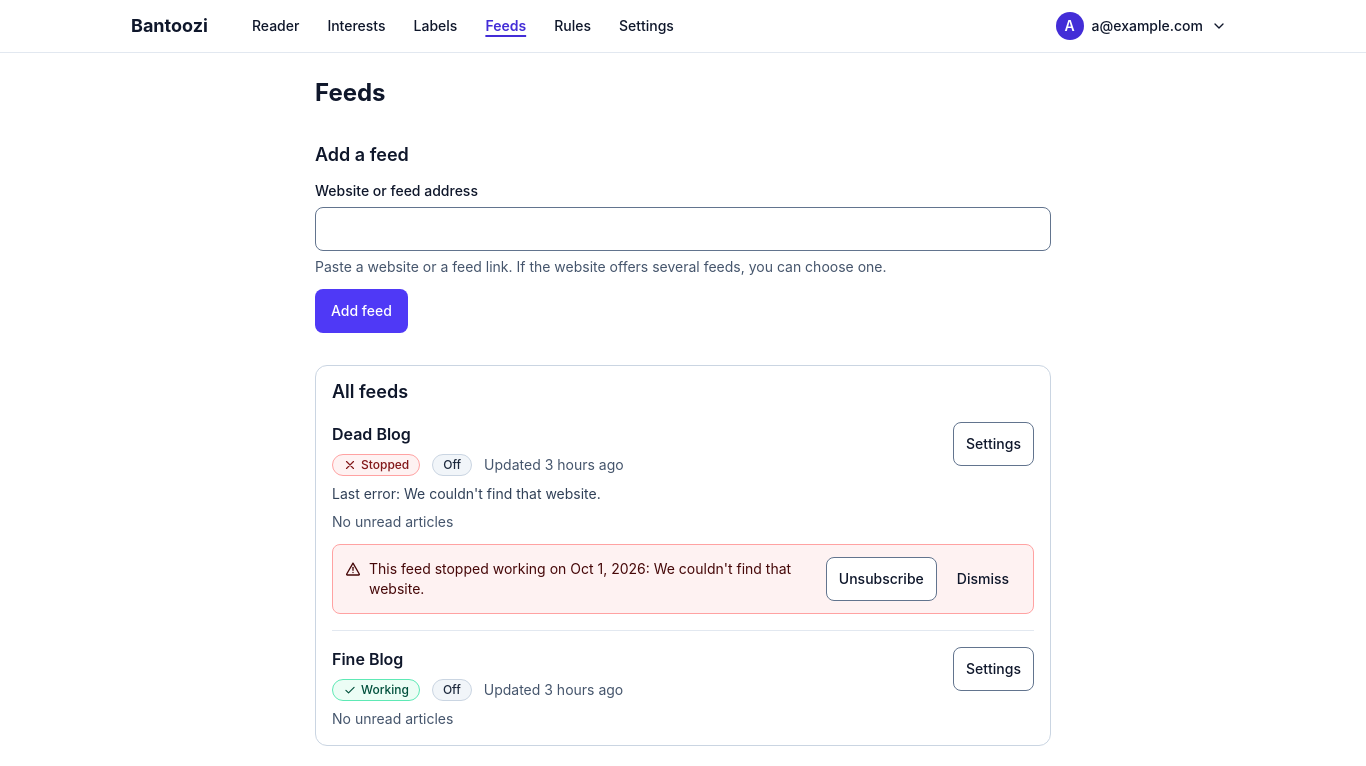
the focus after unsubscribing on the feeds page › stays in the page when the question was asked by the notice of the feed
Expected: the heading "Dead Blog" is shown, [332,424,411,444]
Click the button "Unsubscribe".
click(881, 579)  # box [826,557,937,601]
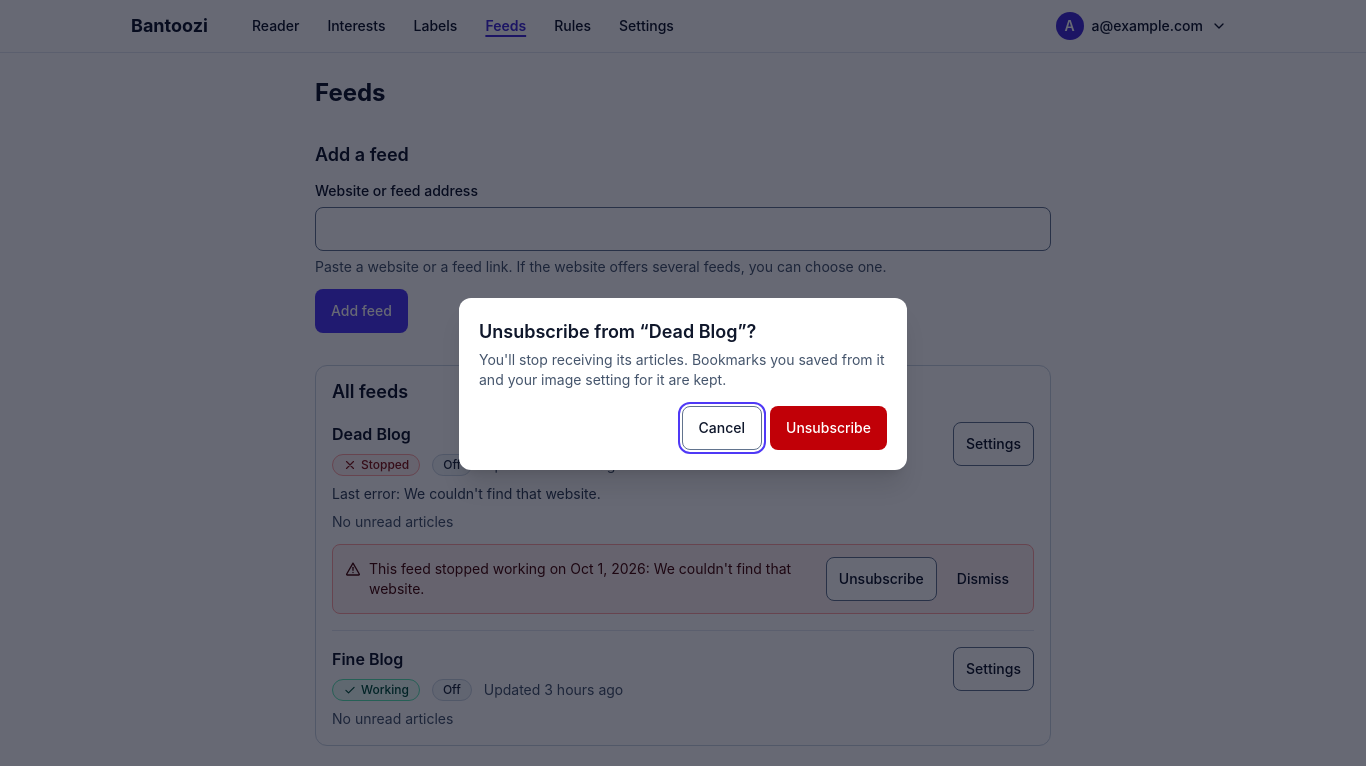
Click the button "Unsubscribe".
click(828, 428)  # box [770,406,887,450]
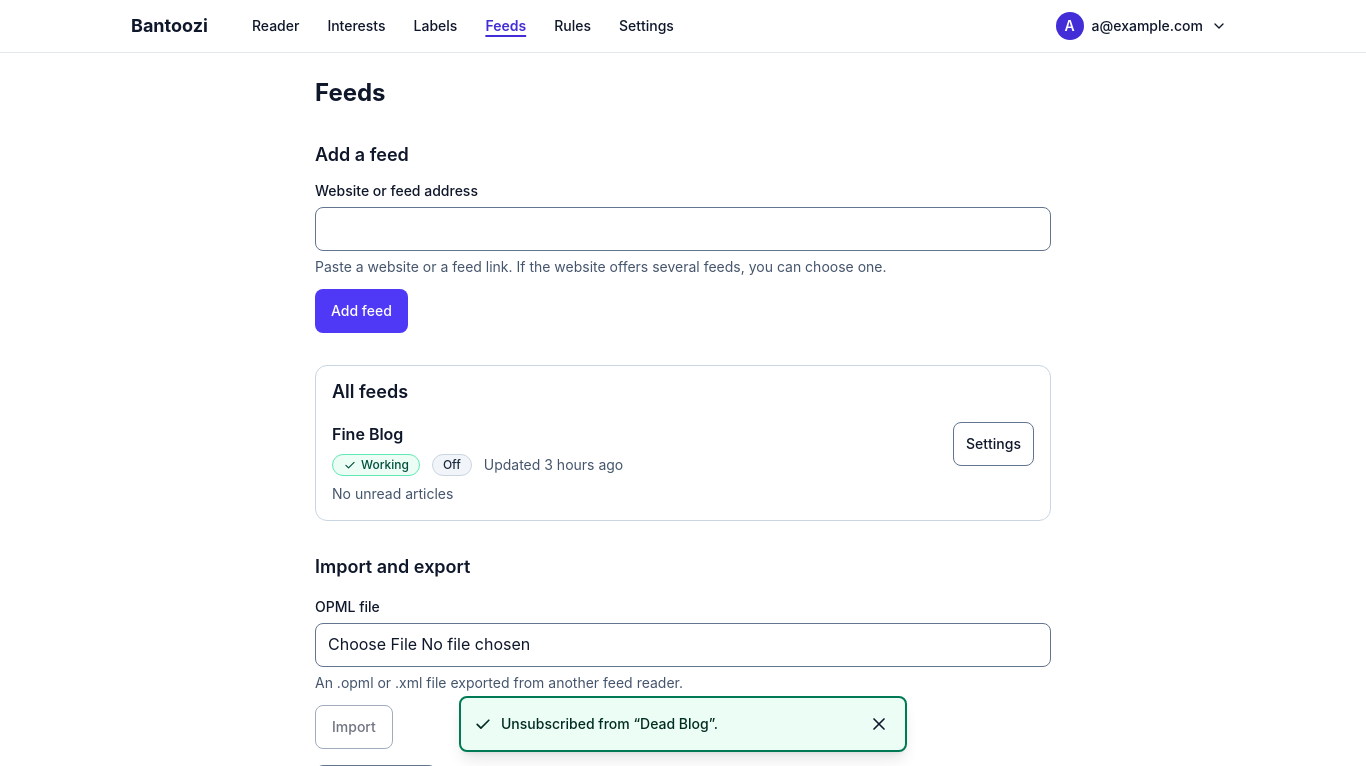
Now the dialog is gone
